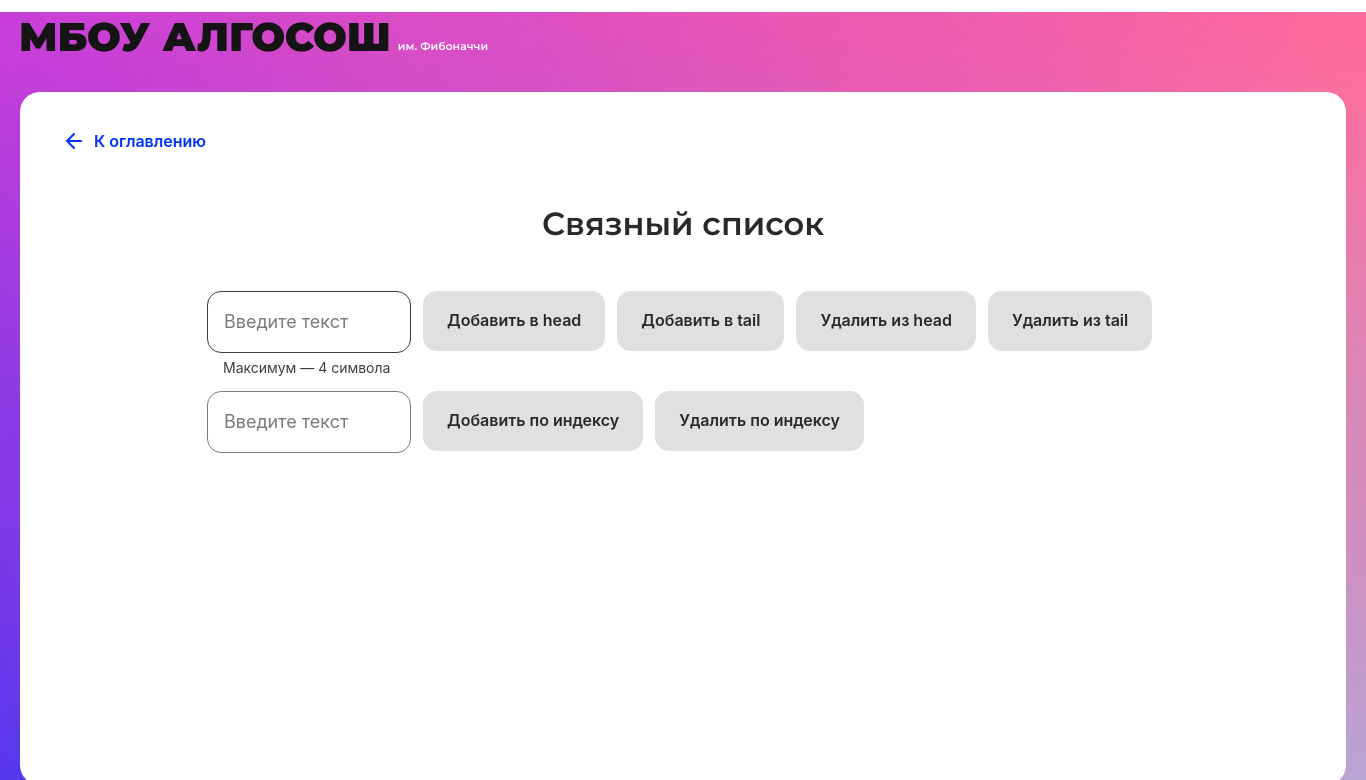
Test: Проверка страницы списка › Добавляем в head
Type "1" into the field named "value" at {"x": 309, "y": 322}, box top-left (207, 291), bottom-right (411, 353)
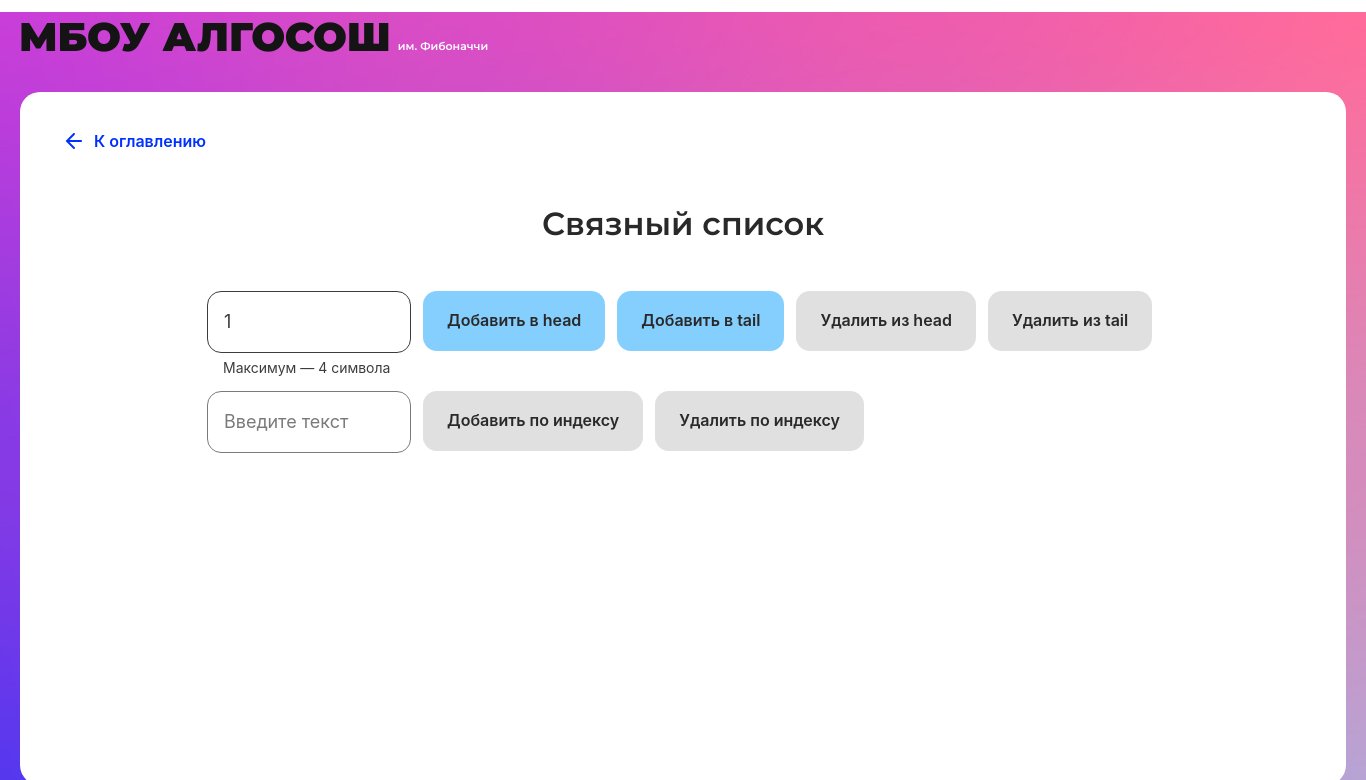
Click the button with test id "btn-add-head" at {"x": 514, "y": 321}, box top-left (423, 291), bottom-right (605, 351)
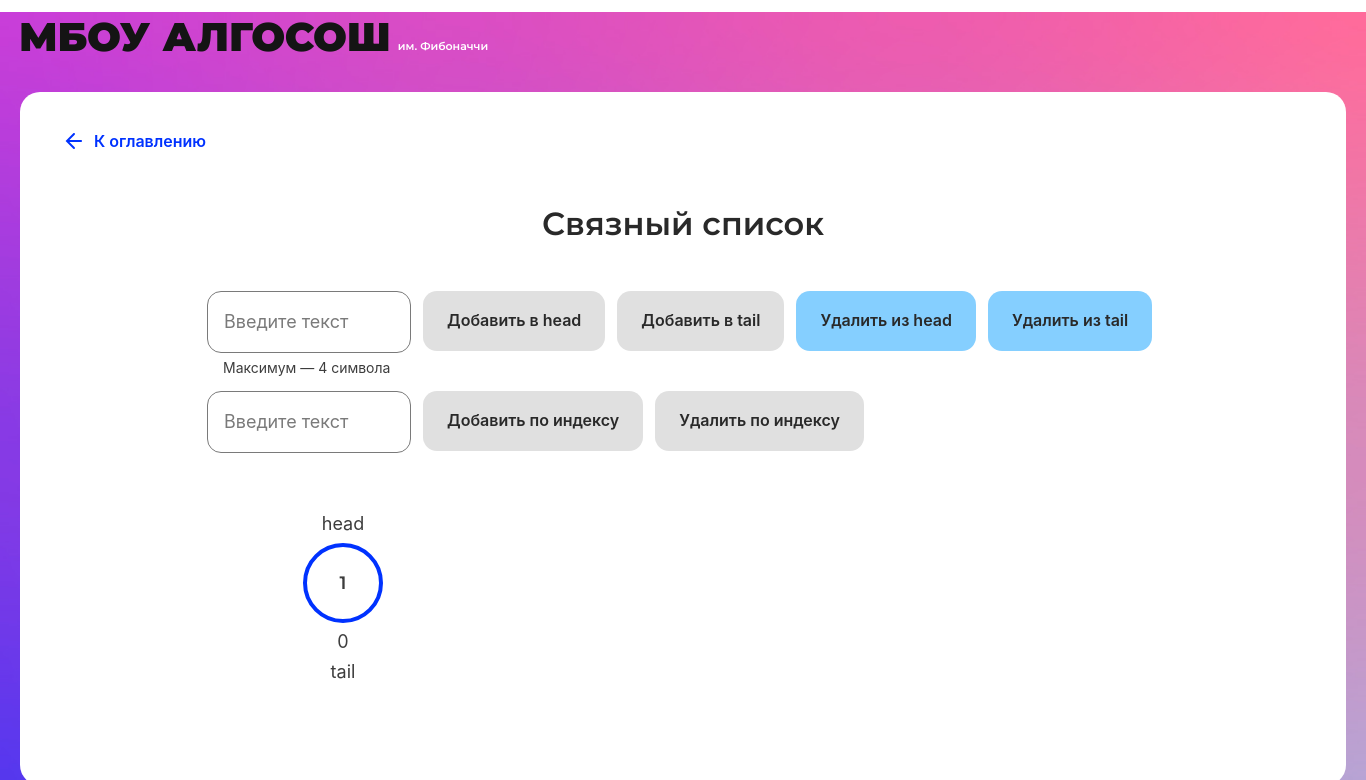
Now the text "head" is shown, box top-left (322, 513), bottom-right (364, 535)
Now the text "tail" is shown, box top-left (331, 661), bottom-right (355, 683)
